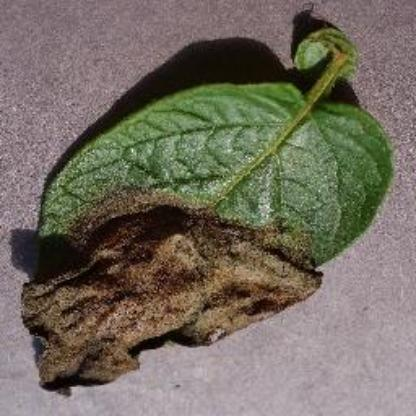Late-Blight: (22, 20, 402, 396)
